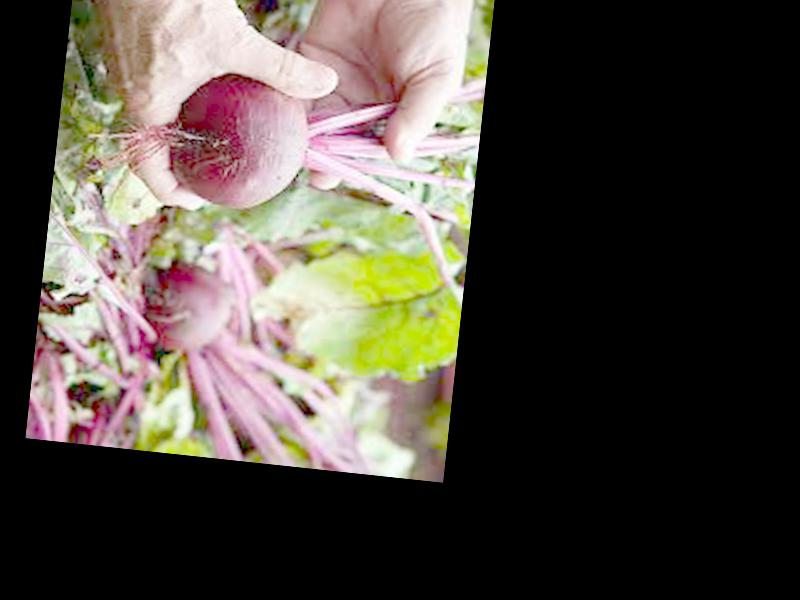Beet: (155, 64, 481, 305)
